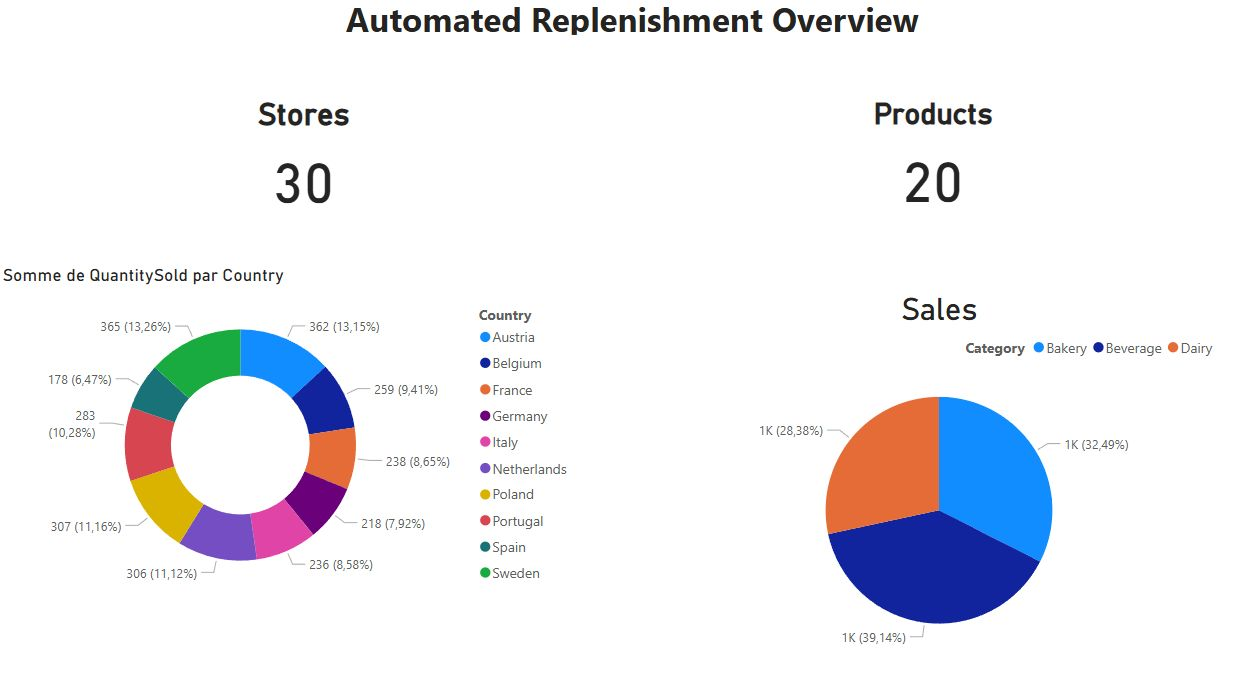

The page's visual inventory and layout, read from the dashboard file:
{"tool":"powerbi","page":{"name":"Page 1","canvas":[1280,720],"ordinal":0},"visuals":[{"type":"textbox","box":[10,290,280,280],"z":0},{"type":"textbox","box":[9.7,0,1257.7,47.3],"z":1000},{"type":"card","title":"Stores","fields":{"Values":["CountNonNull(Stores.StoreID)"]},"box":[224.4,101.3,185.8,119.4],"z":2000},{"type":"card","title":"Products","fields":{"Values":["CountNonNull(Products.ProductID)"]},"box":[857.8,101.3,133.9,119.4],"z":3000},{"type":"donutChart","fields":{"Y":["Sum(Sales.QuantitySold)"],"Series":["Stores.Country"]},"box":[21.7,264.2,563.4,329.4],"z":4000},{"type":"pieChart","title":"Sales","fields":{"Series":["Products.Category"],"Y":["Sum(Sales.QuantitySold)"]},"box":[657.5,289.5,546.5,359.5],"z":5000},{"type":"qnaVisual","box":[991.7,101.3,275.8,150],"z":5001}]}

Visuals, with their boxes on the page's 1280x720 design canvas (x1, y1, x2, y2). These are canvas units, not pixel positions in the 1241x673 screenshot, which may show the page scaled, cropped or inside an application window:
textbox: {"left": 10, "top": 290, "right": 290, "bottom": 570}
textbox: {"left": 10, "top": 0, "right": 1267, "bottom": 47}
"Stores" card: {"left": 224, "top": 101, "right": 410, "bottom": 221}
"Products" card: {"left": 858, "top": 101, "right": 992, "bottom": 221}
donutChart - Sum(Sales.QuantitySold) x Stores.Country: {"left": 22, "top": 264, "right": 585, "bottom": 594}
"Sales" pieChart: {"left": 658, "top": 290, "right": 1204, "bottom": 649}
qnaVisual: {"left": 992, "top": 101, "right": 1268, "bottom": 251}
